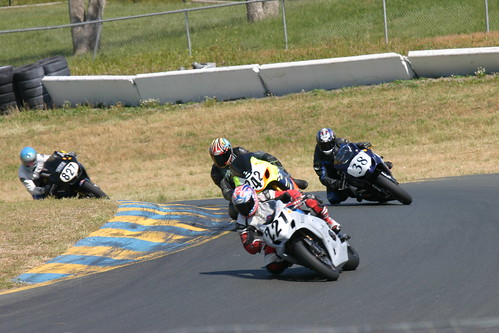helmet: (310, 125, 338, 156), (229, 182, 256, 214), (207, 135, 233, 164), (18, 143, 36, 170)
